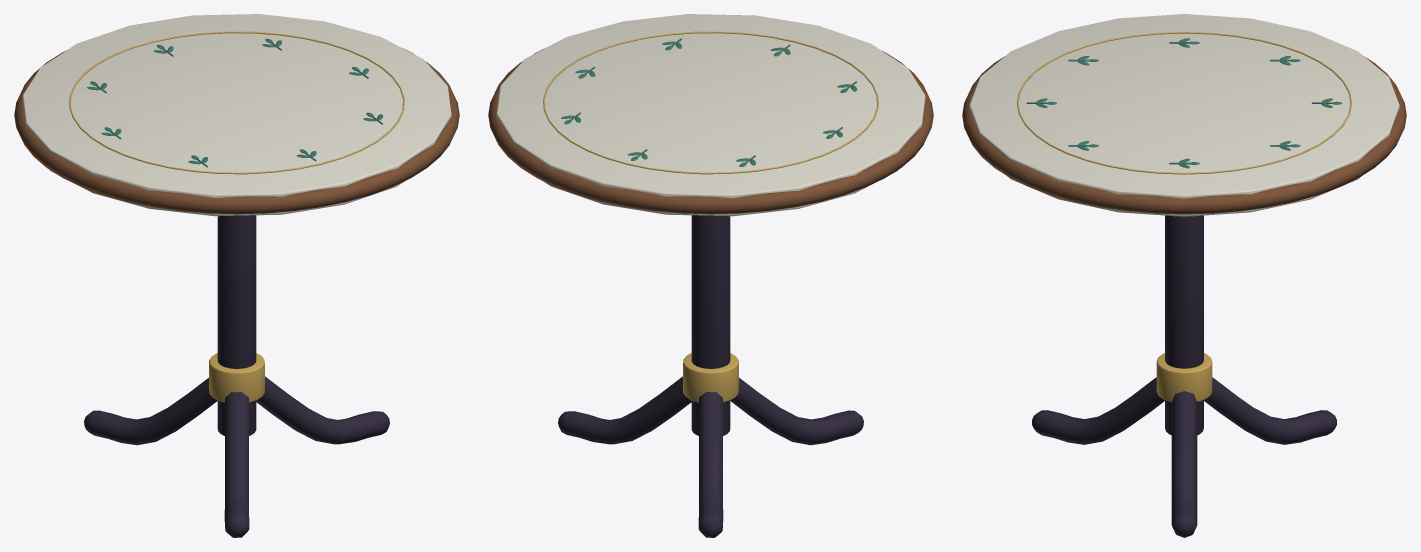
Rendered from bistro_table.glb.
3 renders of one model, left to right at view 1: azimuth 30°, elevation 25°; view 2: azimuth 150°, elevation 25°; view 3: azimuth 270°, elevation 25°, orthographic.
Visible parts, largest first — view 1: Ivory_top, Walnut_edge, Pedestal, Swept_foot, Swept_foot.002, Swept_foot.001, Brass_collar, Fine_inlay_ring; view 2: Ivory_top, Walnut_edge, Pedestal, Swept_foot, Swept_foot.001, Swept_foot.002, Brass_collar, Fine_inlay_ring; view 3: Ivory_top, Walnut_edge, Pedestal, Swept_foot, Swept_foot.001, Swept_foot.002, Brass_collar, Fine_inlay_ring.
Boxes of the visible parts, left/top/right/bottom form: Ivory_top: left=22, top=14, right=451, bottom=216; Walnut_edge: left=14, top=48, right=459, bottom=214; Pedestal: left=217, top=215, right=256, bottom=435; Swept_foot: left=256, top=376, right=389, bottom=444; Swept_foot.002: left=84, top=378, right=217, bottom=445; Swept_foot.001: left=224, top=391, right=249, bottom=537; Brass_collar: left=209, top=353, right=264, bottom=402; Fine_inlay_ring: left=69, top=31, right=404, bottom=174; Ivory_top: left=496, top=14, right=925, bottom=216; Walnut_edge: left=488, top=48, right=933, bottom=214; Pedestal: left=691, top=215, right=730, bottom=435; Swept_foot: left=558, top=376, right=691, bottom=444; Swept_foot.001: left=730, top=378, right=863, bottom=445; Swept_foot.002: left=698, top=391, right=723, bottom=537; Brass_collar: left=683, top=353, right=738, bottom=402; Fine_inlay_ring: left=543, top=31, right=878, bottom=174; Ivory_top: left=969, top=14, right=1399, bottom=216; Walnut_edge: left=962, top=56, right=1406, bottom=214; Pedestal: left=1165, top=215, right=1203, bottom=435; Swept_foot: left=1171, top=391, right=1197, bottom=537; Swept_foot.001: left=1032, top=377, right=1164, bottom=444; Swept_foot.002: left=1204, top=377, right=1336, bottom=444; Brass_collar: left=1156, top=353, right=1212, bottom=401; Fine_inlay_ring: left=1017, top=32, right=1351, bottom=174.
Size of the model in its own units: 0.826 by 0.7522 by 0.826.
